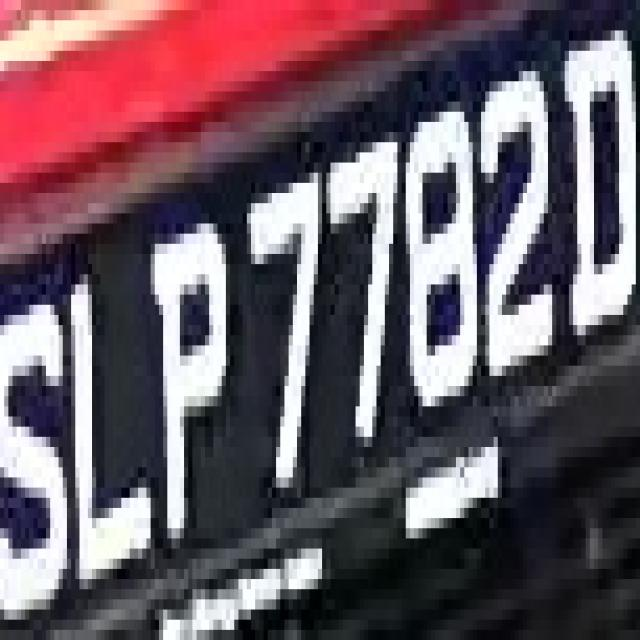2: (468, 41, 560, 406)
7: (238, 152, 330, 518), (310, 142, 406, 478)
8: (393, 81, 477, 457)
D: (552, 21, 636, 356)
L: (71, 234, 151, 599)
P: (151, 213, 230, 569)
S: (0, 264, 75, 619)
